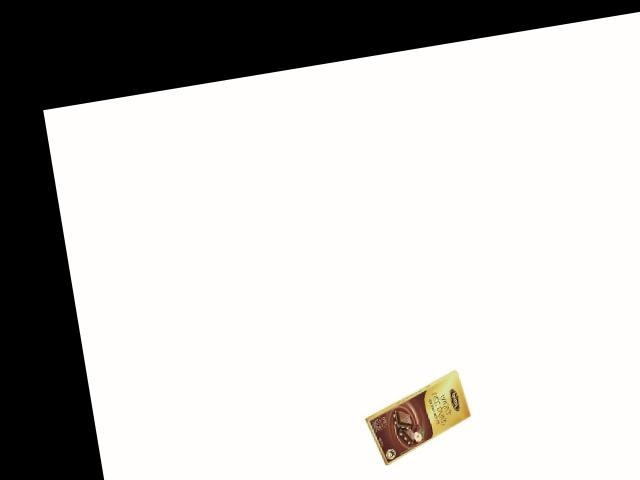chocolate: (349, 365, 477, 469)
